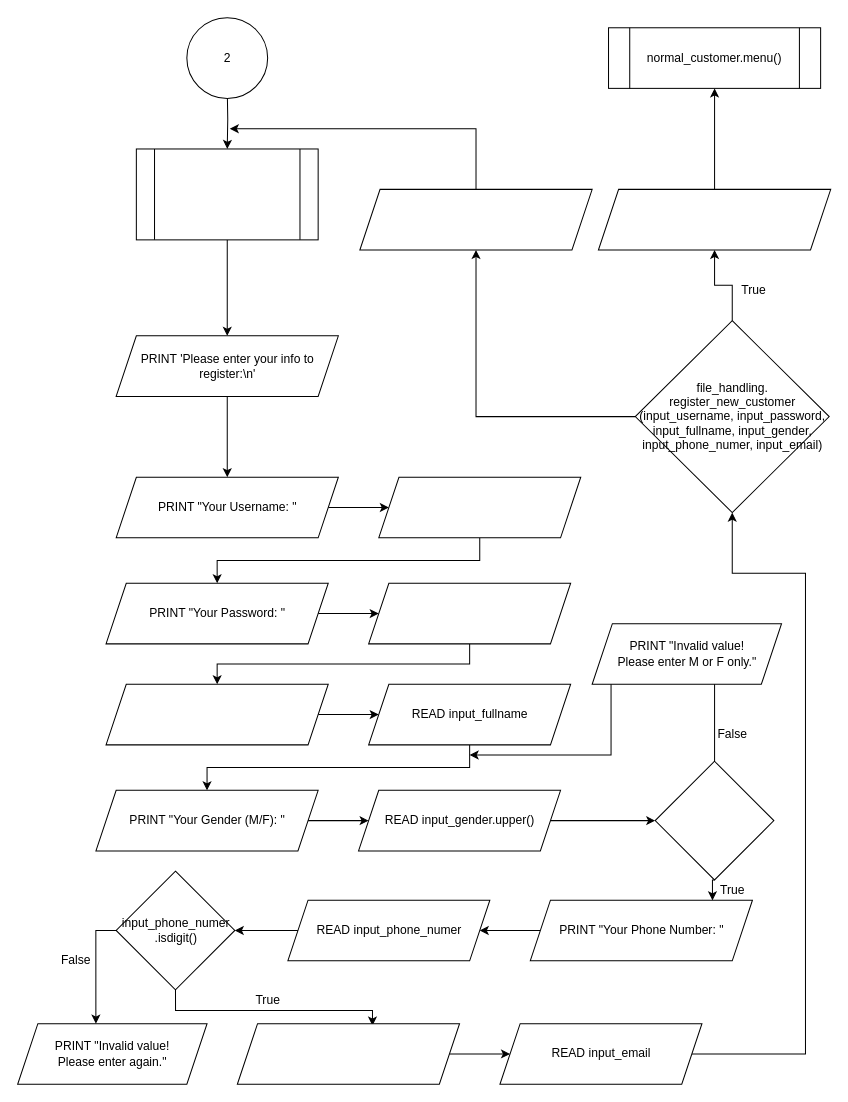
Image size: 848x1102. Some labels were removed from this diagram. Here are the shapes that lost their labels. From the top down, the centre of each, then its label:
[226,194]: DEFINE FUNCTION normal_customer .register_new_customer()
[475,219]: PRINT "Sorry, the username you used already exist. Please try again.!\n\n"
[714,219]: PRINT "Successfully registered as New Customer!\n\n"
[479,507]: READ input_username
[469,613]: READ input_password
[216,714]: PRINT "Your Full Name: "
[714,820]: input_gender == "F" or input_gender == "M"
[348,1053]: PRINT "Your Email Address: "
